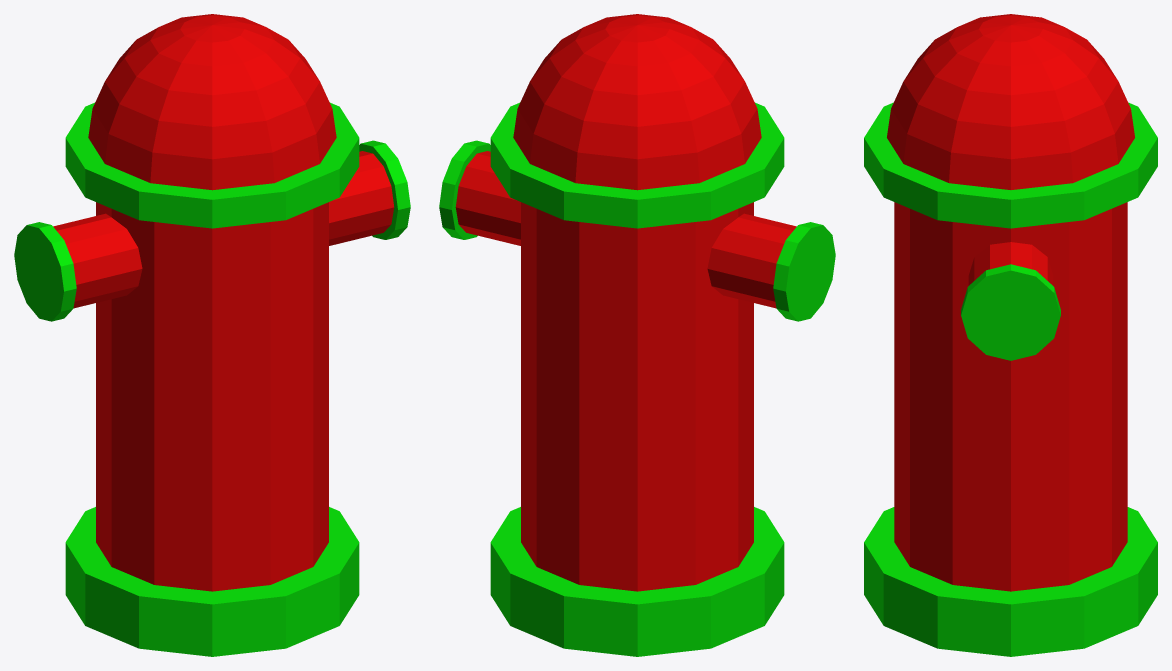
Rendered from Firehydrant.fbx.
3 views of the same model, side by side, from view 1: azimuth 30°, elevation 25°; view 2: azimuth 150°, elevation 25°; view 3: azimuth 270°, elevation 25° (orthographic).
Parts seen in each view (by area): view 1: Fire_hydrant; view 2: Fire_hydrant; view 3: Fire_hydrant.
Part boxes in pixels (x1=…): Fire_hydrant: x1=14, y1=14, x2=410, y2=656; Fire_hydrant: x1=439, y1=14, x2=835, y2=656; Fire_hydrant: x1=864, y1=14, x2=1157, y2=656.
Bounding box in the file's own units: 2.72 × 4.28 × 2.
